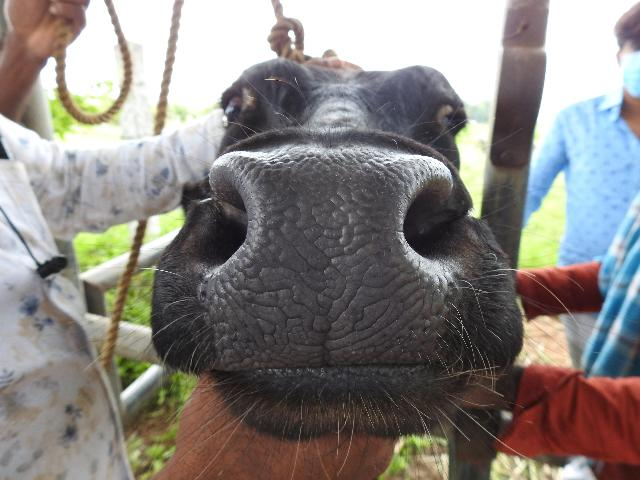Muzzle: (235, 155, 412, 353)
